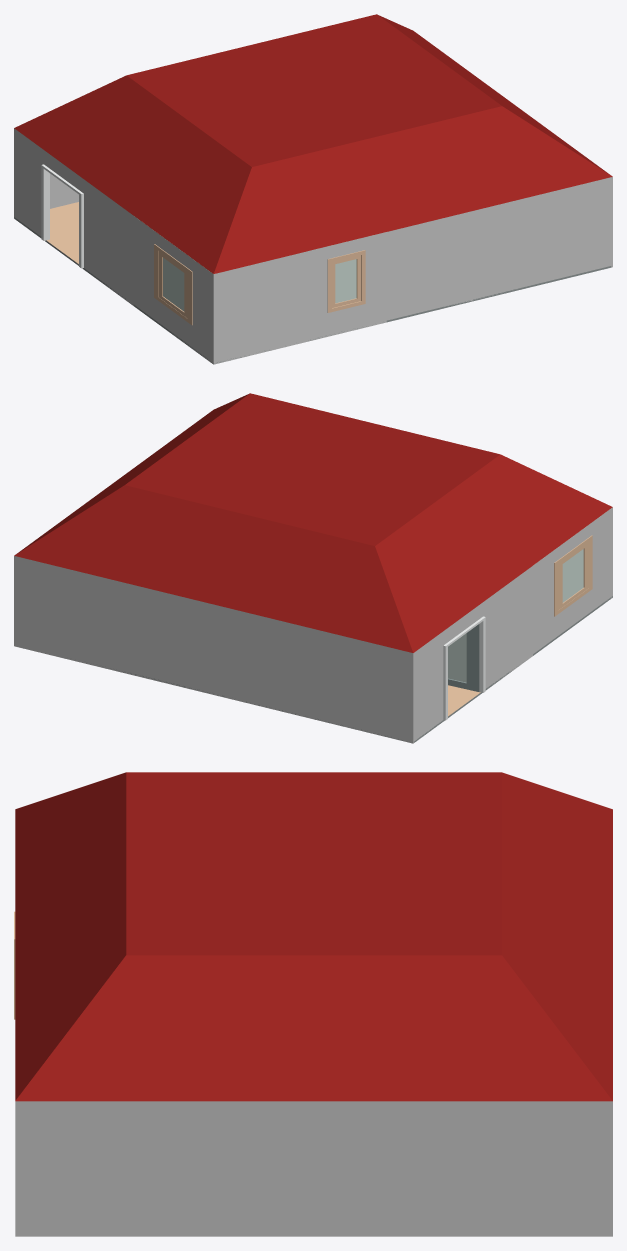
Rendered from furnished_new_small_house.fbx.
3 renders of one model, top to bottom at view 1: azimuth 30°, elevation 25°; view 2: azimuth 150°, elevation 25°; view 3: azimuth 270°, elevation 25°, orthographic. The views are drawn at different scales.
Visible parts, largest first — view 1: Plane, wall.006, wall.001, wallWindow, wallWindow.001, wall.003, wall.002, LivRoomFloor, window.001, window, doorwayFront, wall (+1 smaller); view 2: Plane, wall, wallWindow.001, wall.003, wall.002, door, window.001, doorwayFront, LivRoomFloor, wall.004; view 3: Plane, wall.013.
Boxes of the visible parts, left/top/right/bottom form: Plane: left=14, top=14, right=612, bottom=273; wall.006: left=386, top=177, right=611, bottom=320; wall.001: left=212, top=251, right=306, bottom=364; wallWindow: left=307, top=232, right=386, bottom=341; wallWindow.001: left=133, top=216, right=215, bottom=363; wall.003: left=84, top=179, right=133, bottom=305; wall.002: left=15, top=129, right=43, bottom=236; LivRoomFloor: left=14, top=202, right=366, bottom=364; window.001: left=158, top=251, right=187, bottom=318; window: left=332, top=255, right=360, bottom=307; doorwayFront: left=41, top=164, right=83, bottom=268; wall: left=14, top=128, right=78, bottom=218; Plane: left=14, top=393, right=612, bottom=652; wall: left=15, top=556, right=414, bottom=743; wallWindow.001: left=533, top=507, right=612, bottom=653; wall.003: left=483, top=566, right=532, bottom=688; wall.002: left=412, top=631, right=443, bottom=740; door: left=448, top=624, right=479, bottom=691; window.001: left=558, top=542, right=588, bottom=609; doorwayFront: left=443, top=616, right=485, bottom=720; LivRoomFloor: left=246, top=596, right=612, bottom=742; wall.004: left=443, top=602, right=483, bottom=645; Plane: left=15, top=772, right=612, bottom=1101; wall.013: left=15, top=1101, right=612, bottom=1236.
Size of the model in its own units: 1162 by 420 by 1002.
